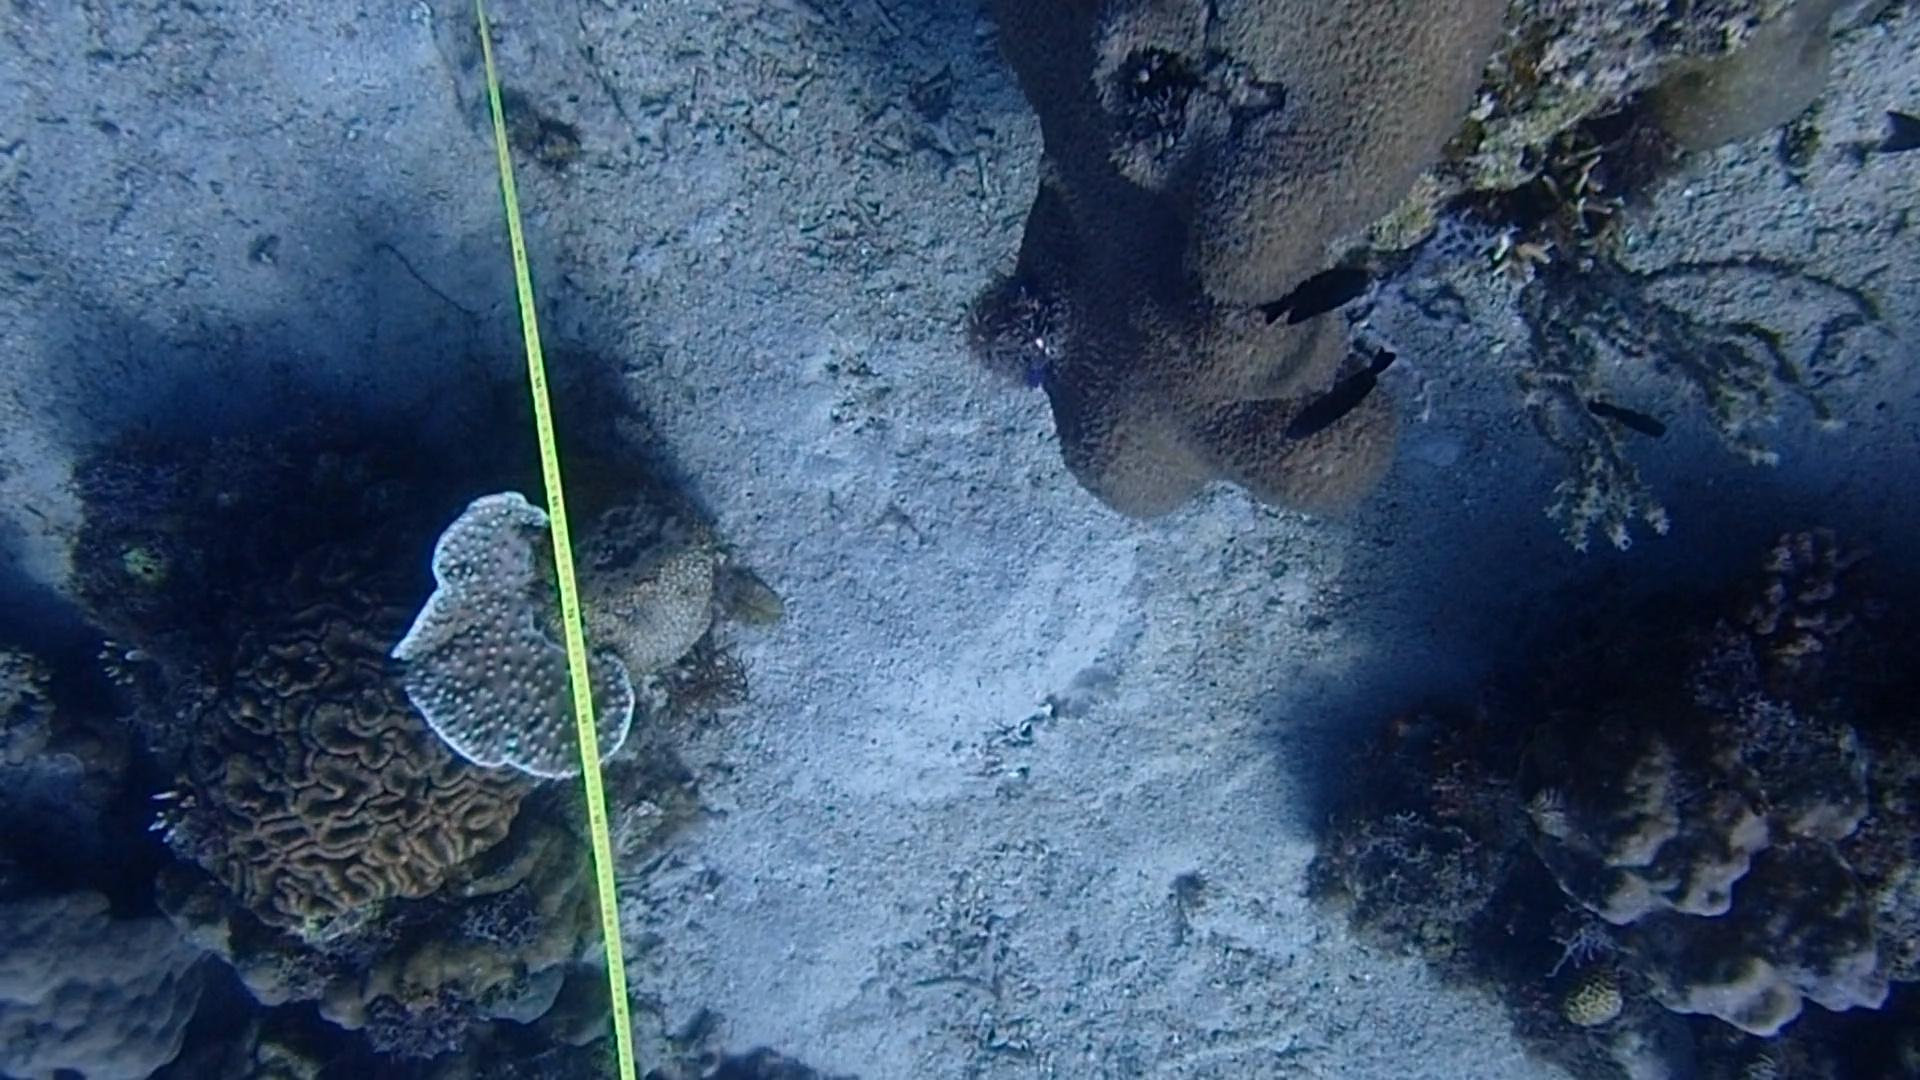Dark Fish: (1246, 249, 1393, 344), (1286, 356, 1414, 455), (1578, 371, 1671, 463)
